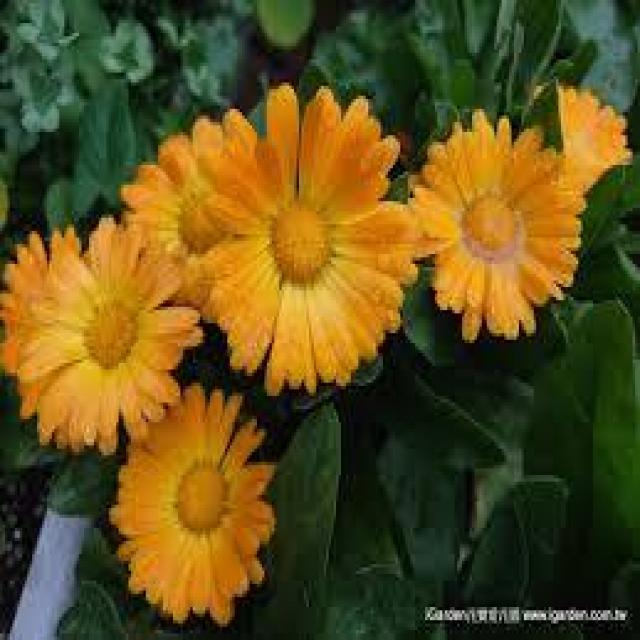organic waste: (201, 89, 399, 373), (400, 124, 593, 348), (86, 388, 272, 615), (27, 210, 193, 450), (540, 76, 621, 218)
